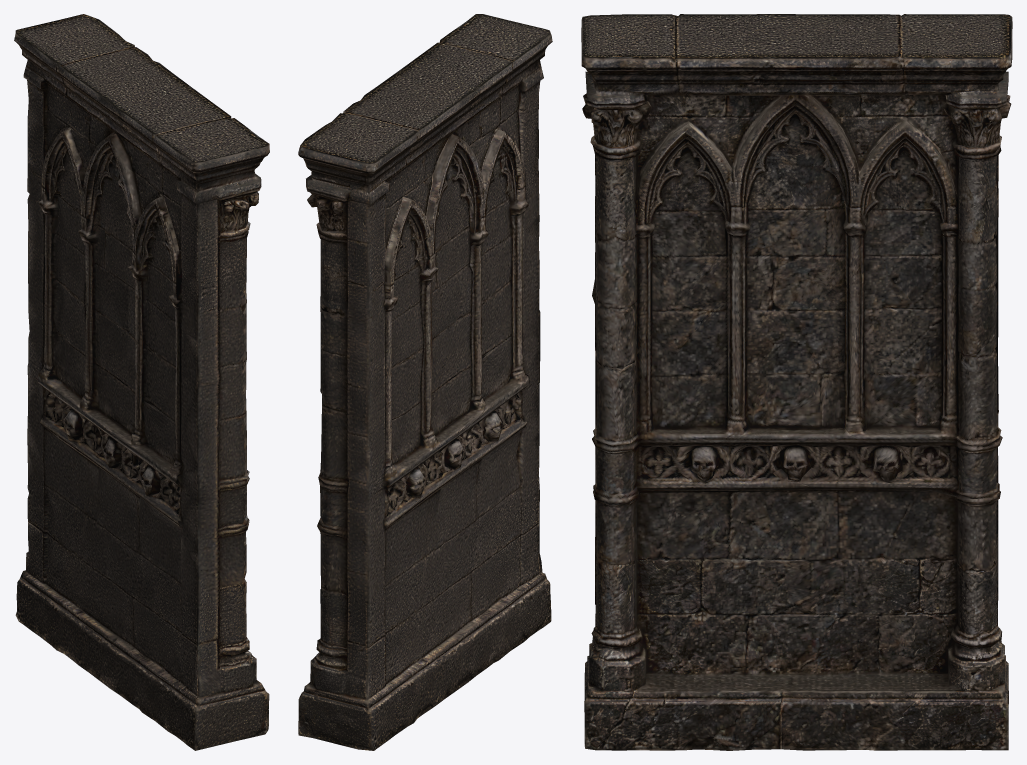
The model's file is raw_wallbay.glb.
The picture shows the model from 3 angles, left to right: view 1: azimuth 30°, elevation 25°; view 2: azimuth 150°, elevation 25°; view 3: azimuth 270°, elevation 25°; orthographic projection. The views are drawn at different scales.
Parts seen in each view (by area): view 1: tripo_node_46fbca00-3d26-4866-b842-a6049a1767f3; view 2: tripo_node_46fbca00-3d26-4866-b842-a6049a1767f3; view 3: tripo_node_46fbca00-3d26-4866-b842-a6049a1767f3.
Boxes of the visible parts, x1,y1,x2,y2 form: tripo_node_46fbca00-3d26-4866-b842-a6049a1767f3: (14,14,269,750); tripo_node_46fbca00-3d26-4866-b842-a6049a1767f3: (298,14,552,750); tripo_node_46fbca00-3d26-4866-b842-a6049a1767f3: (581,14,1012,750).
Bounding box in the file's own units: 0.1387 × 1 × 0.5632.
1 material, 1 textured.
